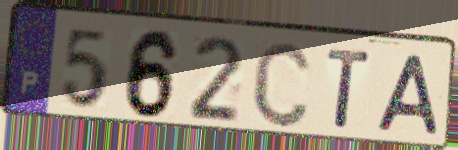2: (184, 34, 247, 125)
5: (59, 26, 113, 110)
6: (120, 27, 183, 122)
A: (373, 52, 443, 137)
C: (249, 37, 314, 130)
T: (325, 45, 374, 132)
